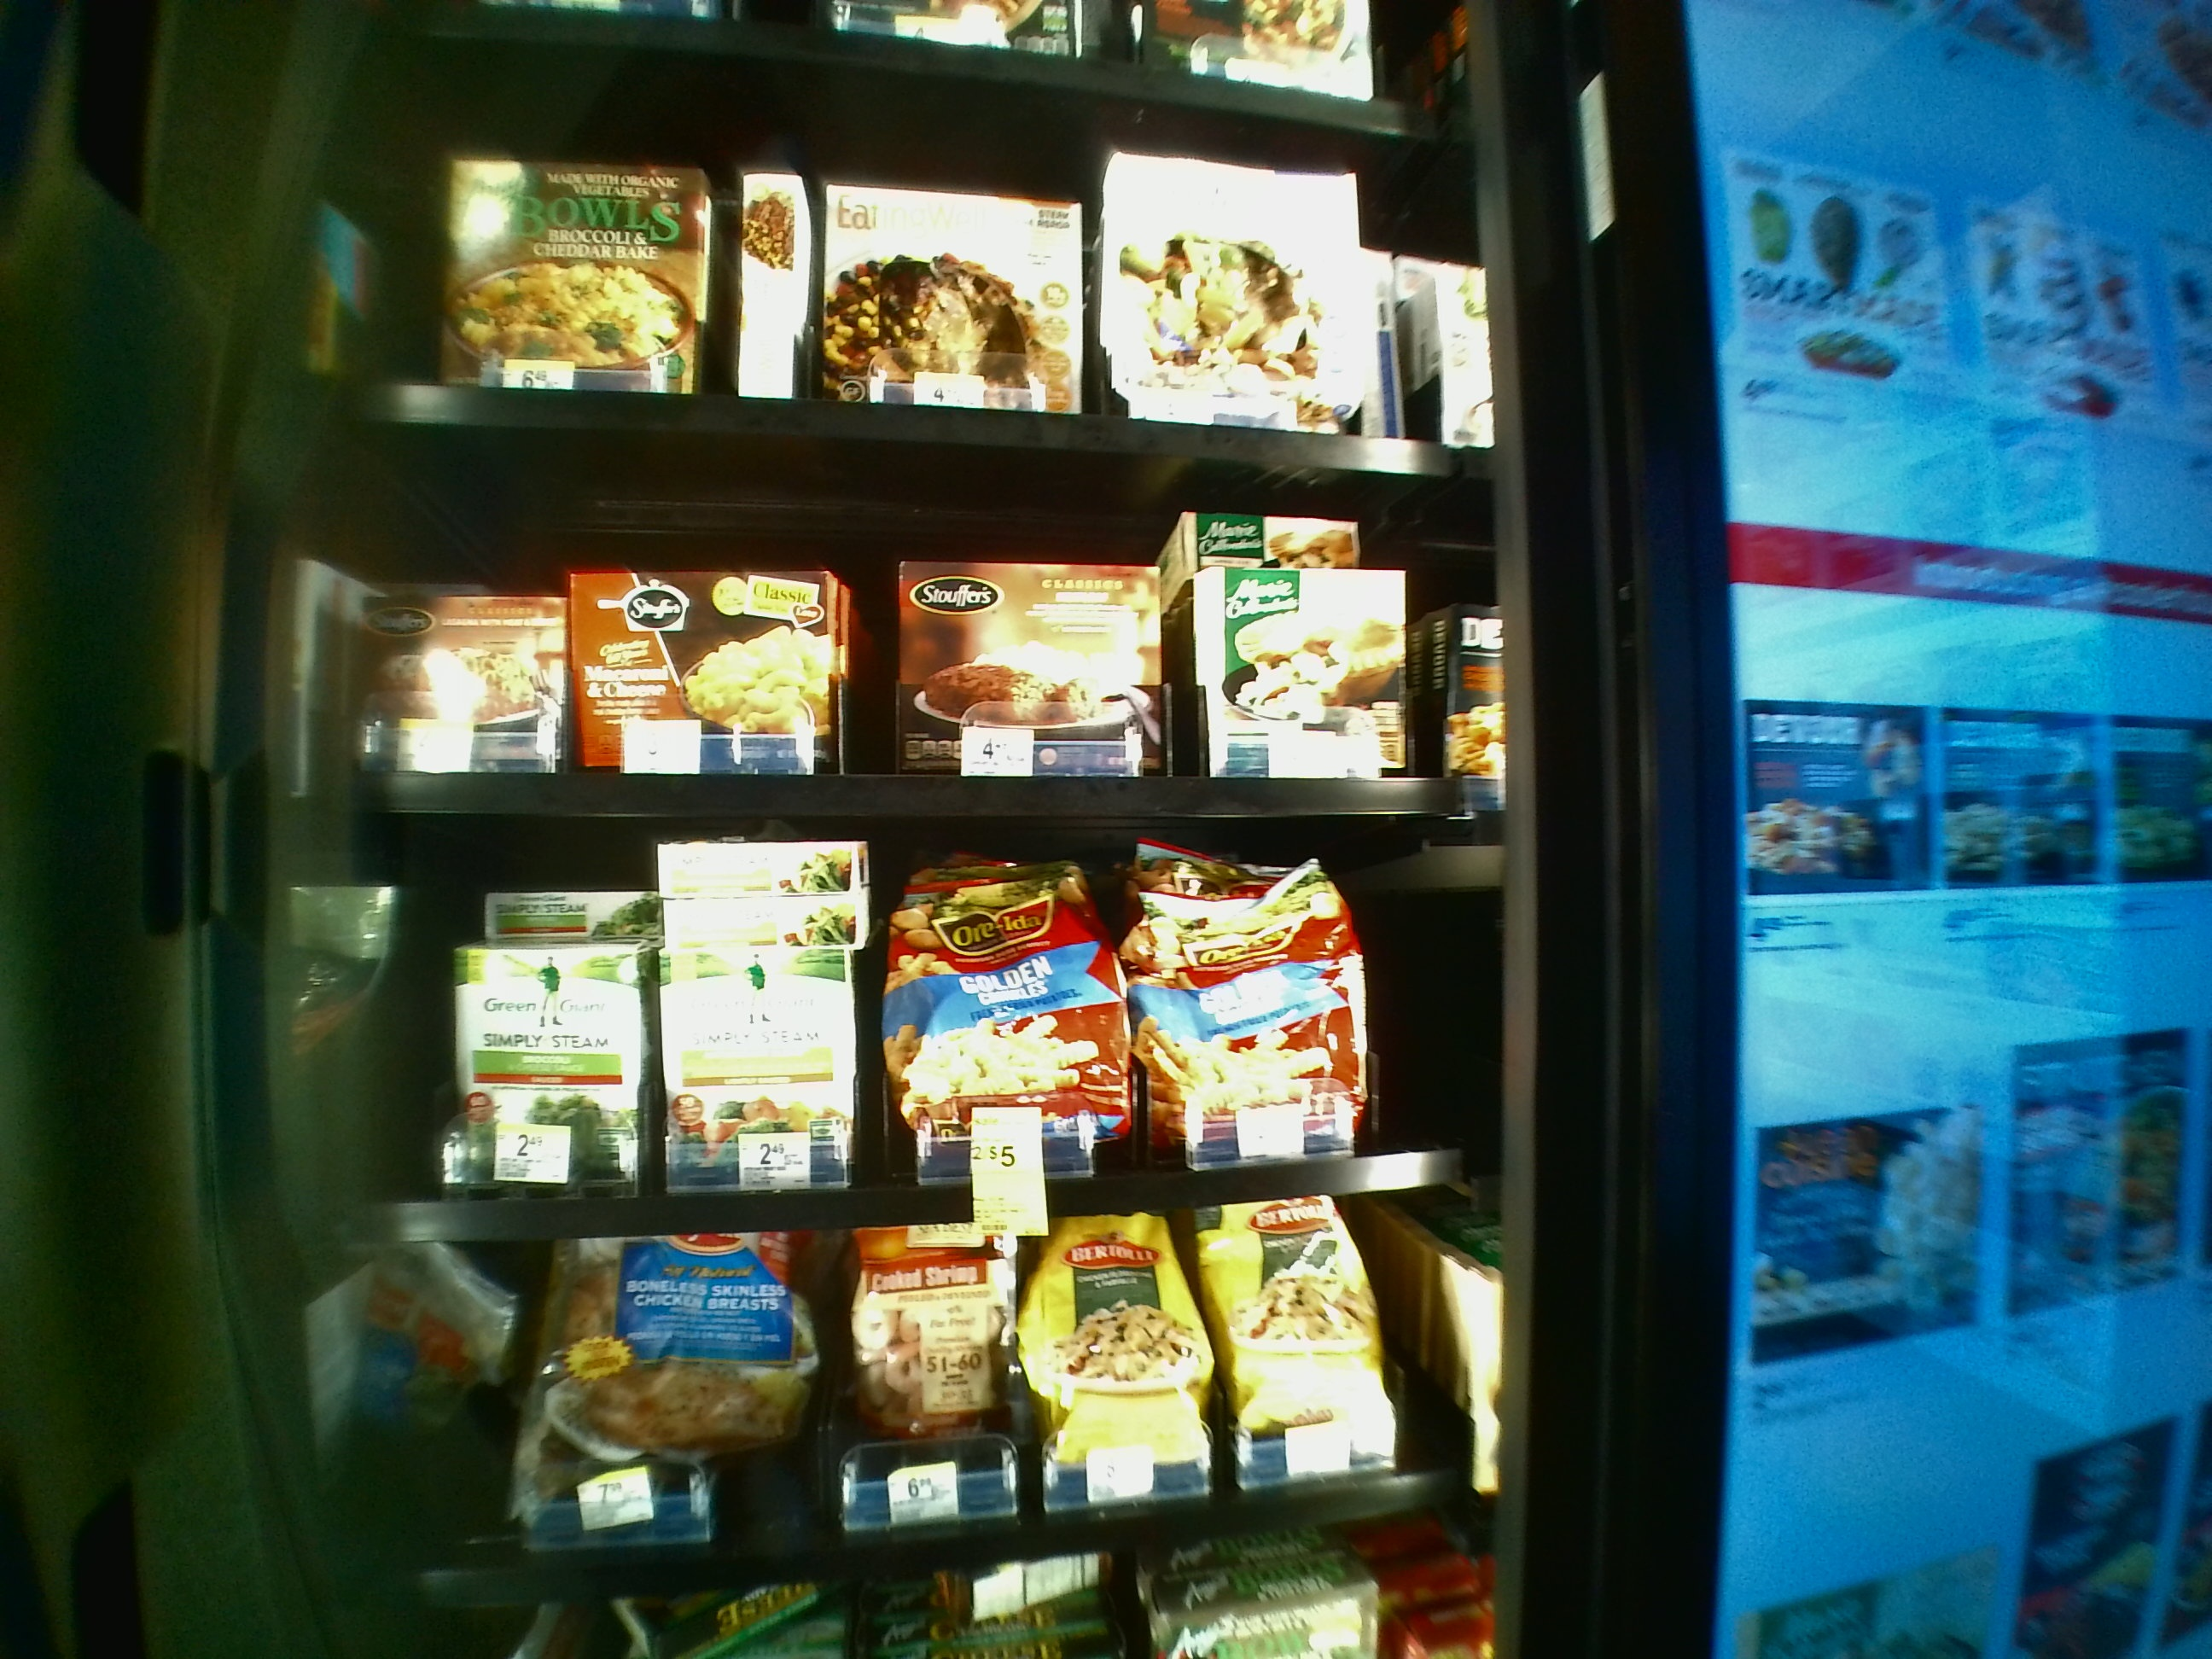shelf: (298, 829, 1498, 1225), (296, 432, 1496, 814)
